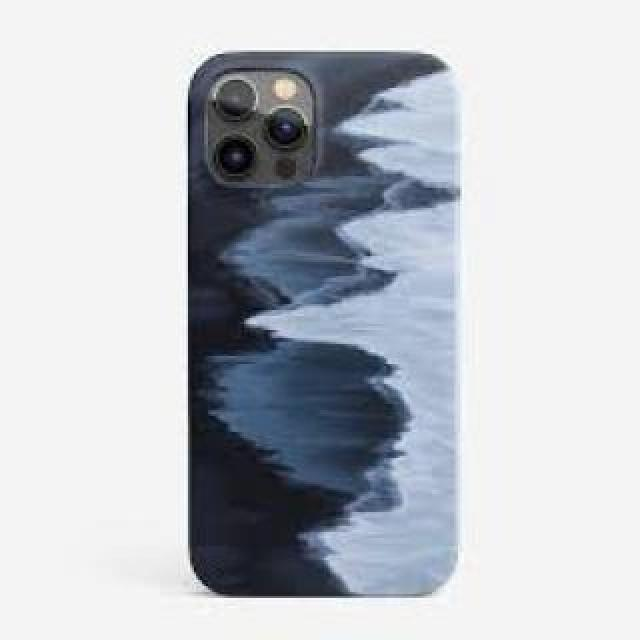smart phone: (184, 23, 468, 615)
